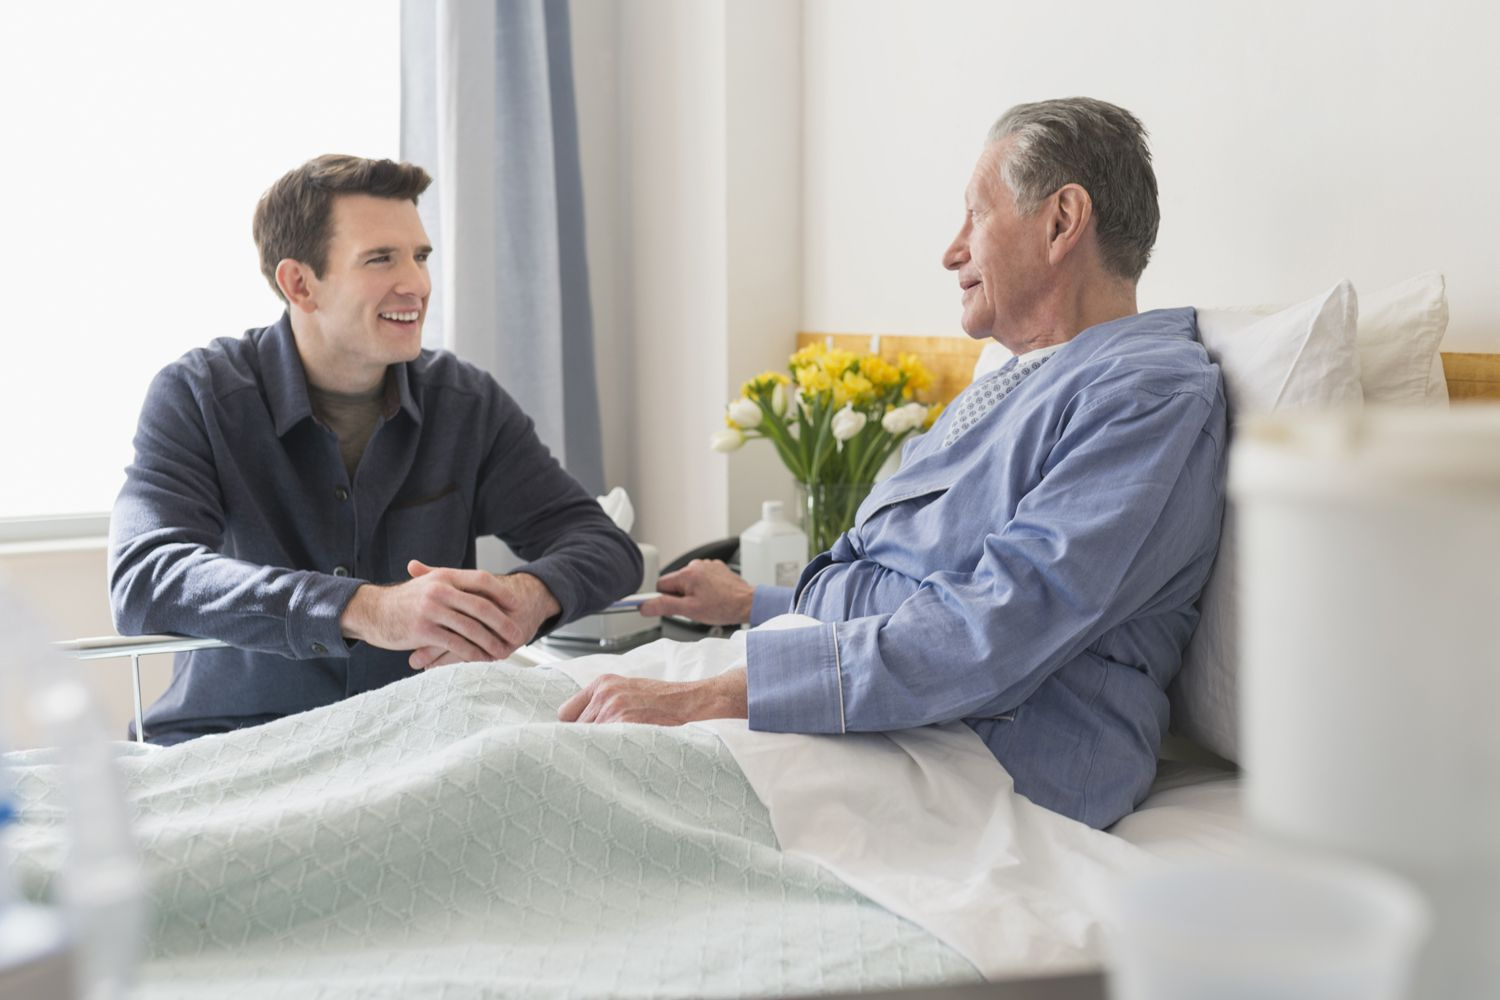visitor: (63, 92, 675, 800)
